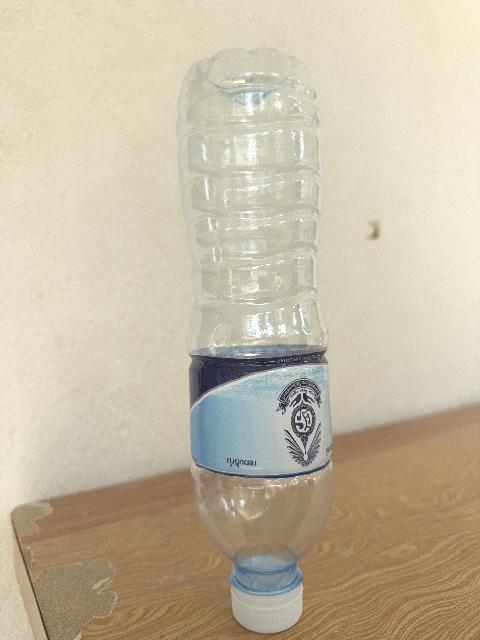bottle: (177, 49, 332, 632)
